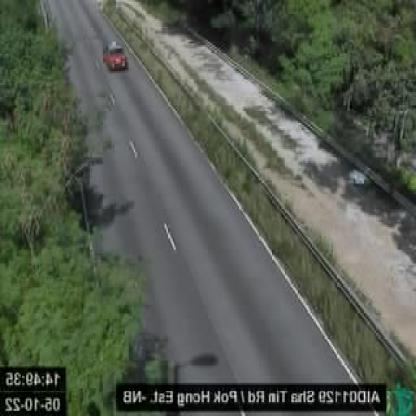Car: (102, 42, 128, 68)
